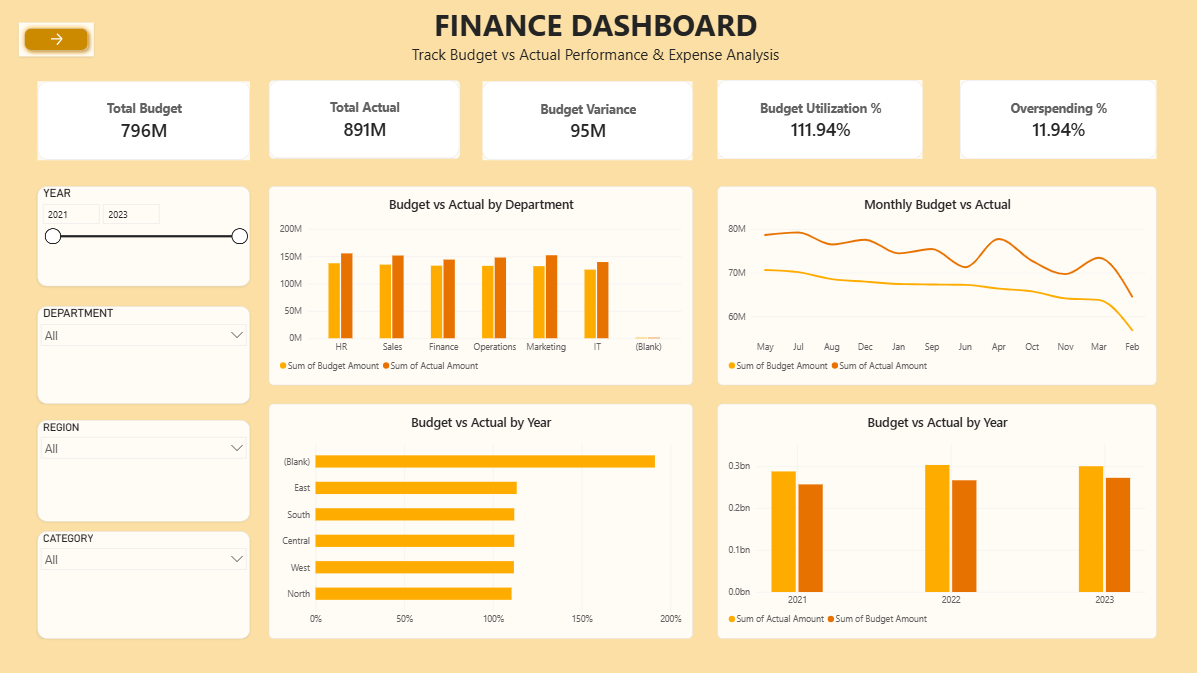

What the dashboard file says about the page in this screenshot:
{"tool":"powerbi","page":{"name":"Financial Overview","canvas":[1920,1080],"ordinal":0},"visuals":[{"type":"cardVisual","fields":{"Data":["Sheet1.Total Budget"]},"box":[60,130,340,126],"z":0},{"type":"cardVisual","fields":{"Data":["Sheet1.Total Actual"]},"box":[430,128,306,126],"z":1000},{"type":"cardVisual","fields":{"Data":["Sheet1.Budget Variance"]},"box":[772,130,336,126],"z":2000},{"type":"cardVisual","fields":{"Data":["Sheet1.Overspending %"]},"box":[1536,128,314,126],"z":3000},{"type":"cardVisual","fields":{"Data":["Sheet1.Budget Utilization %"]},"box":[1148,128,328,126],"z":4000},{"type":"clusteredColumnChart","title":"Budget vs Actual by Department","fields":{"Category":["Sheet1.Department"],"Y":["Sum(Sheet1.Budget Amount)","Sum(Sheet1.Actual Amount)"]},"box":[430,298,678,318],"z":5000},{"type":"lineChart","title":"Monthly Budget vs Actual","fields":{"Category":["Sheet1.Month"],"Y":["Sum(Sheet1.Budget Amount)","Sum(Sheet1.Actual Amount)"]},"box":[1148,298,702,318],"z":6000},{"type":"clusteredColumnChart","title":"Budget vs Actual by Year","fields":{"Category":["Sheet1.Year"],"Y":["Sum(Sheet1.Actual Amount)","Sum(Sheet1.Budget Amount)"]},"box":[1148,646,702,376],"z":7000},{"type":"clusteredBarChart","title":"Budget vs Actual by Year","fields":{"Category":["Sheet1.Region"],"Y":["Sheet1.Budget Utilization %"]},"box":[430,646,678,376],"z":8000},{"type":"slicer","fields":{"Values":["Sheet1.Year"]},"box":[60,298,340,160],"z":9000},{"type":"slicer","fields":{"Values":["Sheet1.Department"]},"box":[60,490,340,156],"z":10000},{"type":"slicer","fields":{"Values":["Sheet1.Region"]},"box":[60,672,340,162],"z":11000},{"type":"slicer","fields":{"Values":["Sheet1.Category"]},"box":[60,850,340,172],"z":12000},{"type":"textbox","box":[10,6,1886,100],"z":13000},{"type":"actionButton","box":[30,36,120,54],"z":13001}]}

Visuals, with their boxes in screenshot pixels (x1, y1, x2, y2), scaled from the page's 1920x1080 canvas onto the 1197x673 screenshot:
cardVisual - Sheet1.Total Budget: BBox(37, 81, 249, 160)
cardVisual - Sheet1.Total Actual: BBox(268, 80, 459, 158)
cardVisual - Sheet1.Budget Variance: BBox(481, 81, 691, 160)
cardVisual - Sheet1.Overspending %: BBox(958, 80, 1153, 158)
cardVisual - Sheet1.Budget Utilization %: BBox(716, 80, 920, 158)
"Budget vs Actual by Department" clusteredColumnChart: BBox(268, 186, 691, 384)
"Monthly Budget vs Actual" lineChart: BBox(716, 186, 1153, 384)
"Budget vs Actual by Year" clusteredColumnChart: BBox(716, 403, 1153, 637)
"Budget vs Actual by Year" clusteredBarChart: BBox(268, 403, 691, 637)
slicer - Sheet1.Year: BBox(37, 186, 249, 285)
slicer - Sheet1.Department: BBox(37, 305, 249, 403)
slicer - Sheet1.Region: BBox(37, 419, 249, 520)
slicer - Sheet1.Category: BBox(37, 530, 249, 637)
textbox: BBox(6, 4, 1182, 66)
actionButton: BBox(19, 22, 94, 56)
